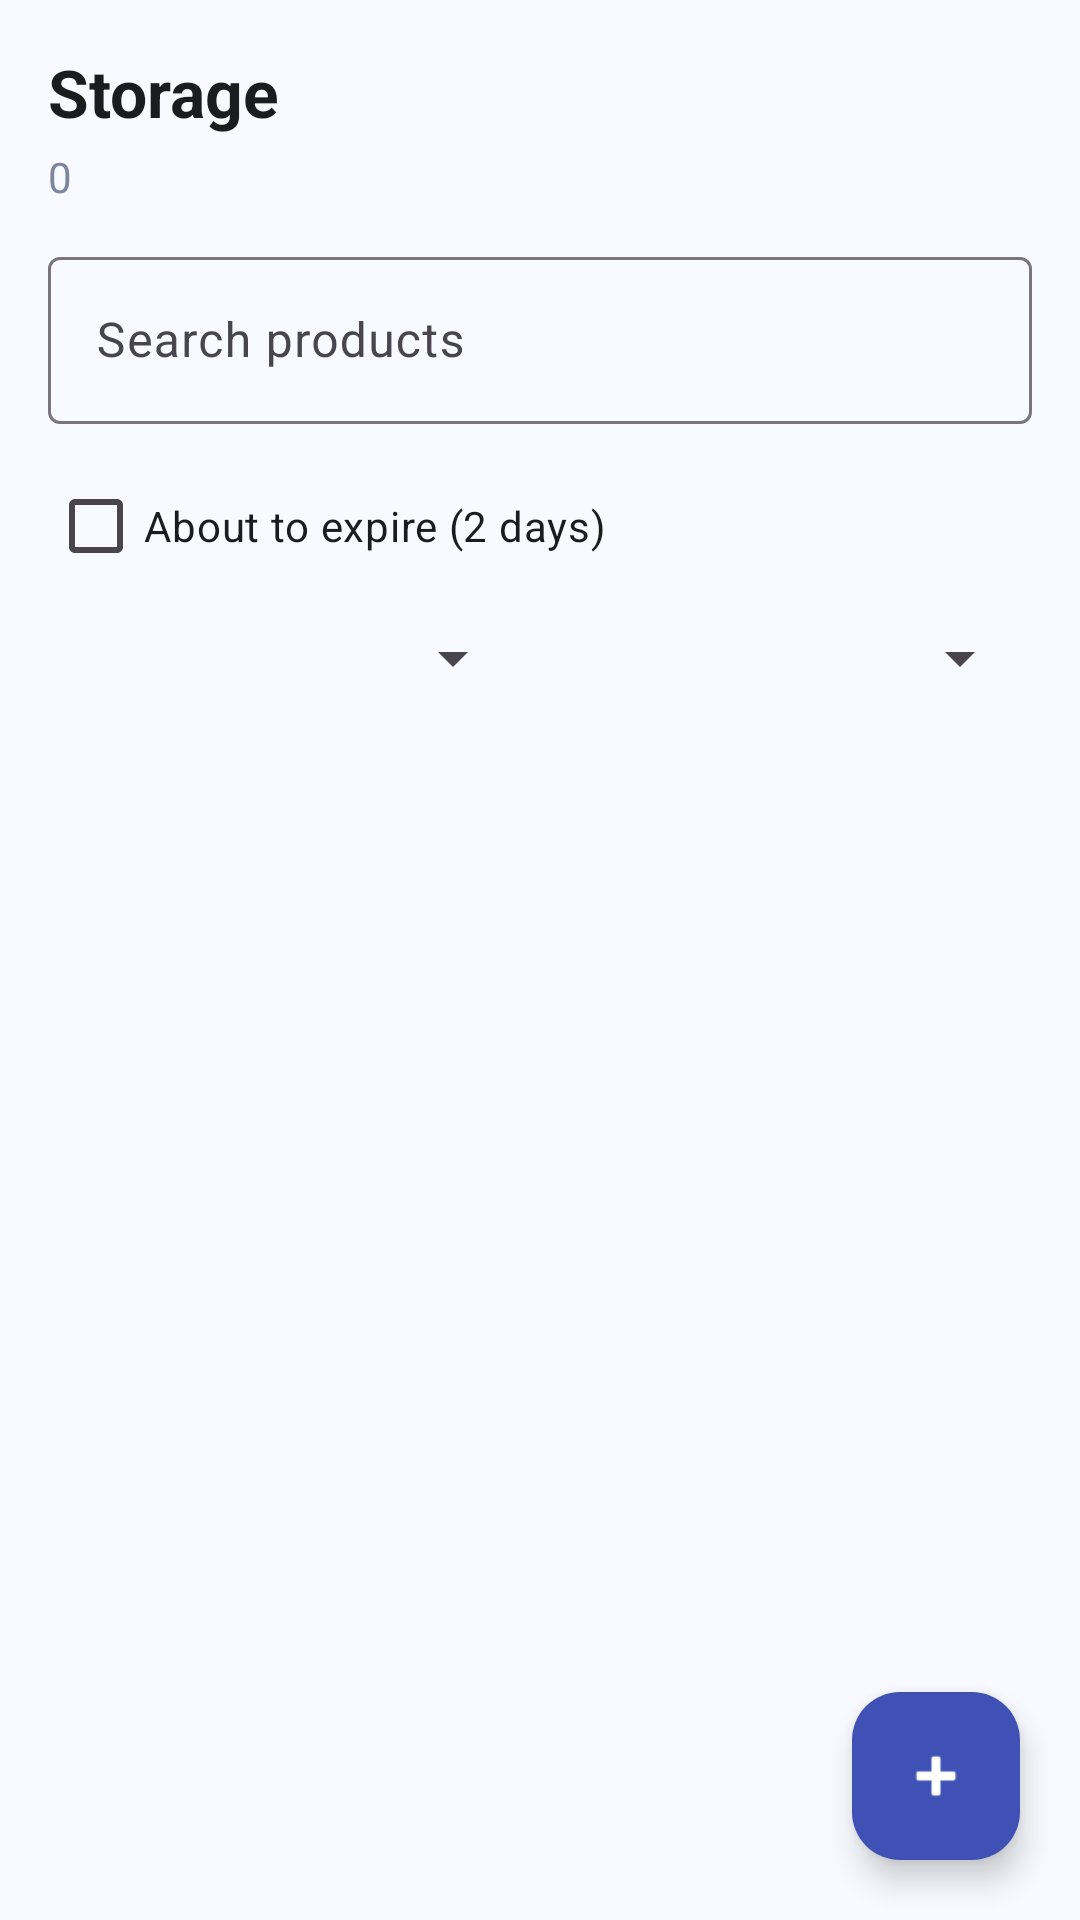

Locate icon controls on the screen. Image size 1080 × 1920, boxes as {"x1": x1, "y1": y1, "x2": x2, "y2": y2}.
Add product: {"x1": 852, "y1": 1692, "x2": 1020, "y2": 1860}
